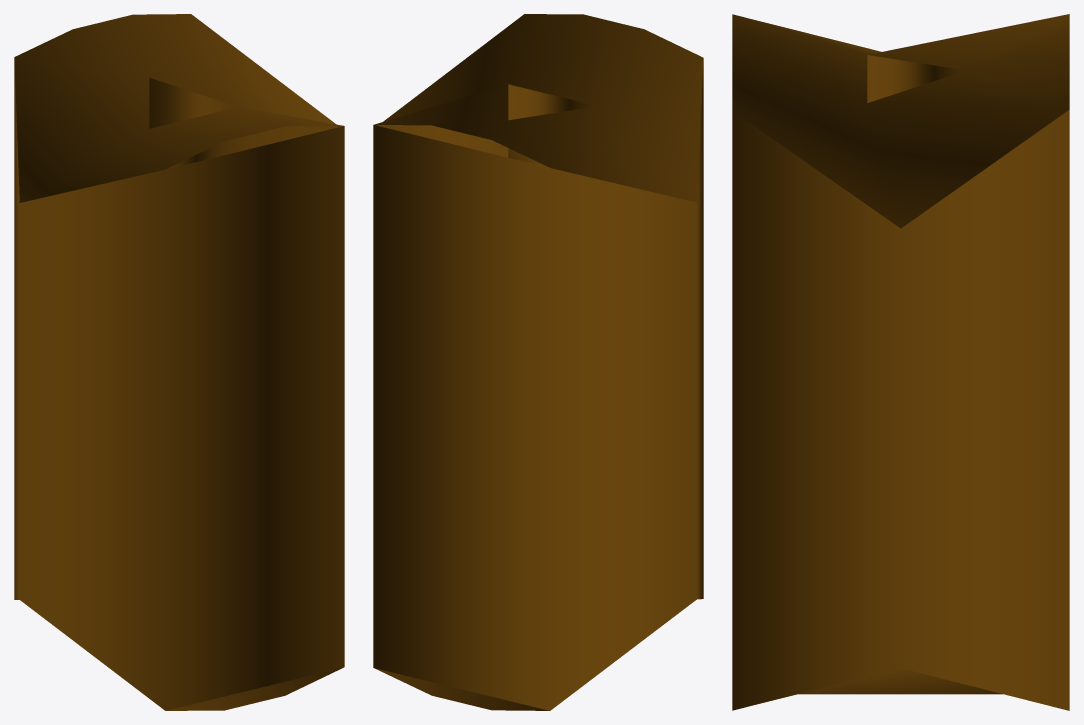
File: Copie de Bouchon_pont_bas_echappement^Copie de Assemb_pont_bas_suspension_Copie de ASS pilier 4_Horloge Comtoise Verge - Sonnerie.obj
3 views of the same model, side by side, from view 1: azimuth 30°, elevation 25°; view 2: azimuth 150°, elevation 25°; view 3: azimuth 270°, elevation 25° (orthographic). The views are drawn at different scales.
Parts seen in each view (by area): view 1: Face_1, Face_2, Face_8, Face_6; view 2: Face_1, Face_2, Face_8, Face_6; view 3: Face_1, Face_2, Face_6, Face_8.
Part boxes in pixels (x1,y1,x2,y2): Face_1: (14, 59, 344, 710); Face_2: (14, 14, 343, 202); Face_8: (149, 77, 238, 169); Face_6: (166, 667, 343, 710); Face_1: (373, 59, 703, 710); Face_2: (373, 14, 703, 202); Face_8: (508, 84, 597, 167); Face_6: (374, 668, 549, 710); Face_1: (732, 109, 1069, 710); Face_2: (732, 14, 1069, 228); Face_6: (798, 668, 1002, 694); Face_8: (867, 55, 965, 102).
Size of the model in its own units: 0.004 by 0.00685 by 0.00332.
